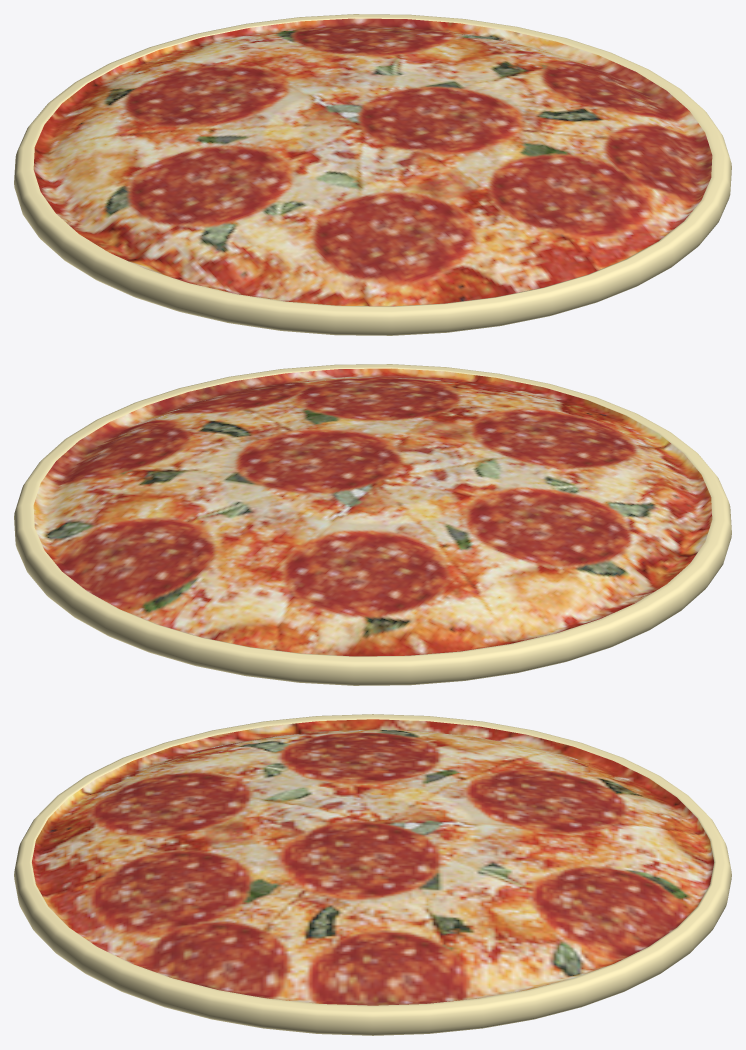
The model's file is pizzaSausage.gltf.
3 views of the same model, one above another, from view 1: azimuth 30°, elevation 25°; view 2: azimuth 150°, elevation 25°; view 3: azimuth 270°, elevation 25° (orthographic).
Size of the model in its own units: 0.6849 by 0.0628 by 0.6849.
Materials: 3 (1 with a texture image).
